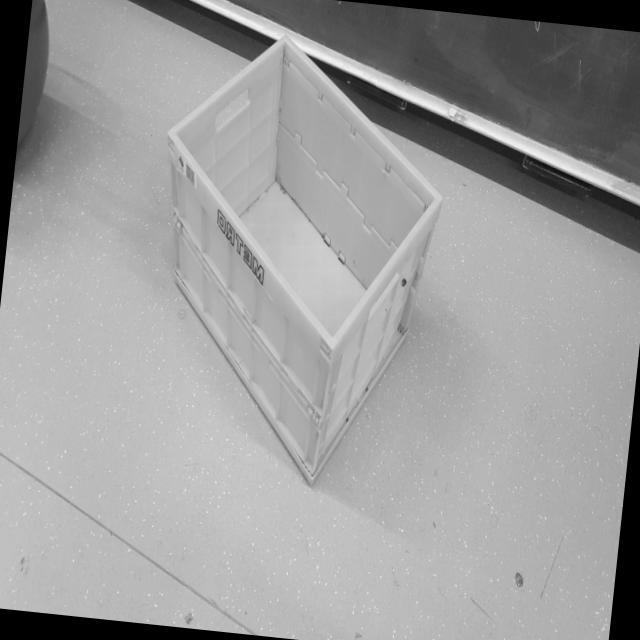box: (122, 14, 469, 534)
